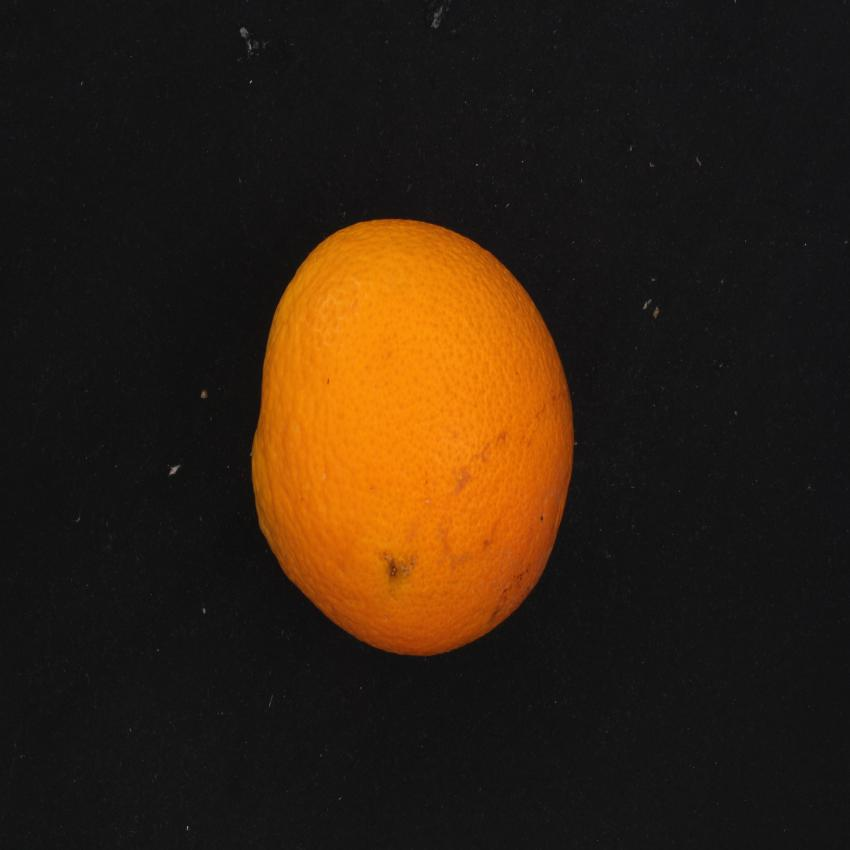Buen estado: (244, 202, 594, 670)
